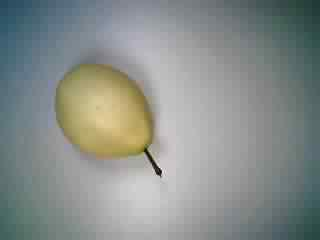pear: (46, 59, 171, 185)
